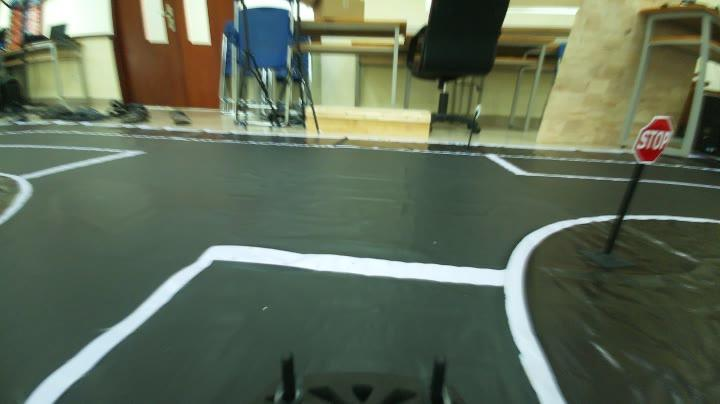stop: (626, 117, 676, 166)
